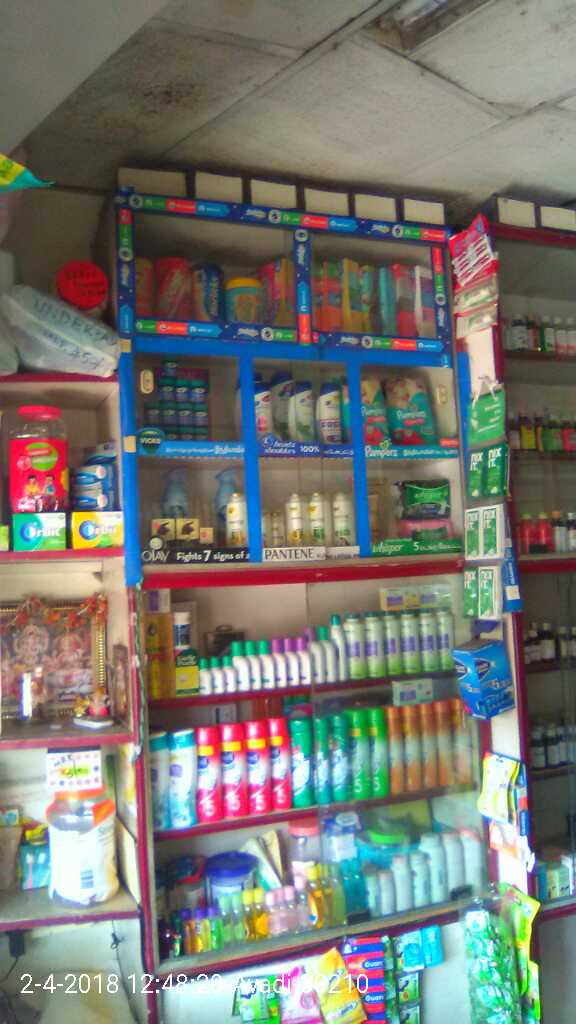vicks: (145, 354, 211, 443)
